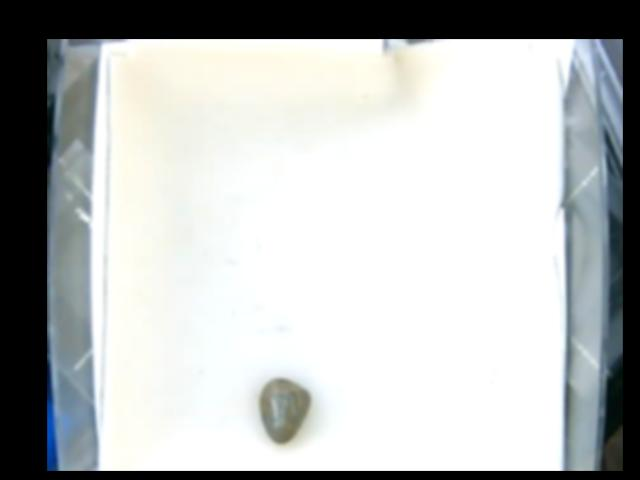Pebble: (259, 376, 311, 443)
